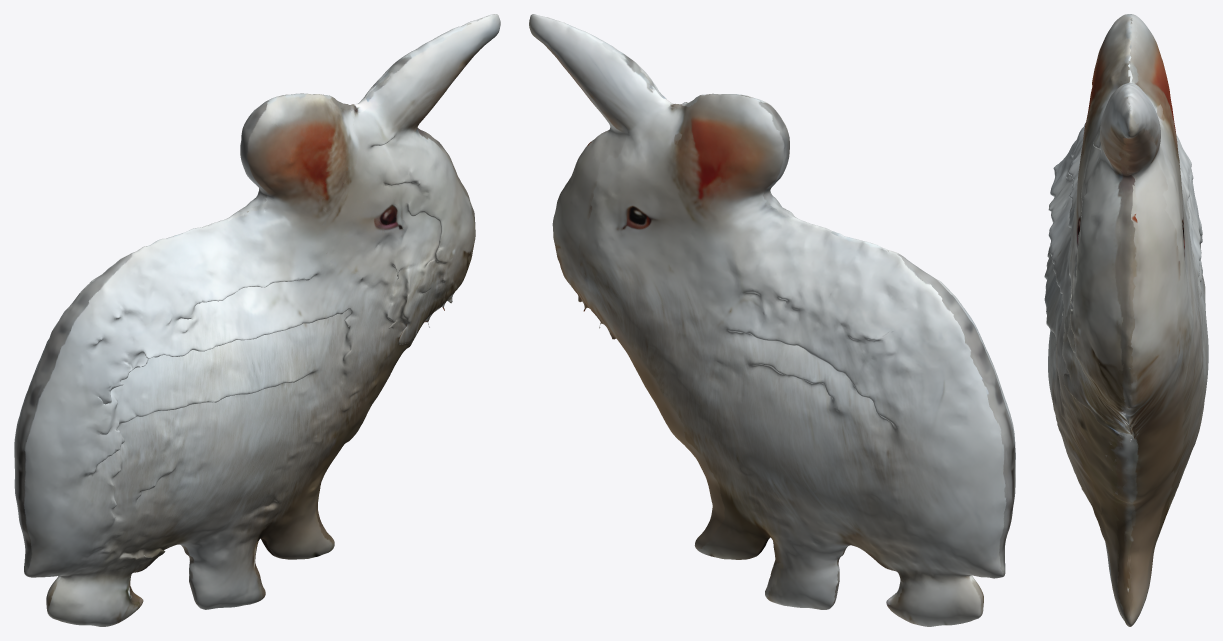
The model's file is joven.glb.
3 views of the same model, side by side, from view 1: azimuth 30°, elevation 25°; view 2: azimuth 150°, elevation 25°; view 3: azimuth 270°, elevation 25° (orthographic). The views are drawn at different scales.
Visible parts, largest first — view 1: mesh; view 2: mesh; view 3: mesh.
Boxes of the visible parts, x1=… form: mesh: x1=14, y1=14, x2=500, y2=626; mesh: x1=529, y1=14, x2=1015, y2=626; mesh: x1=1044, y1=14, x2=1208, y2=626.
Size of the model in its own units: 1.39 by 1.46 by 0.3309.
Materials: 1 (1 with a texture image).
